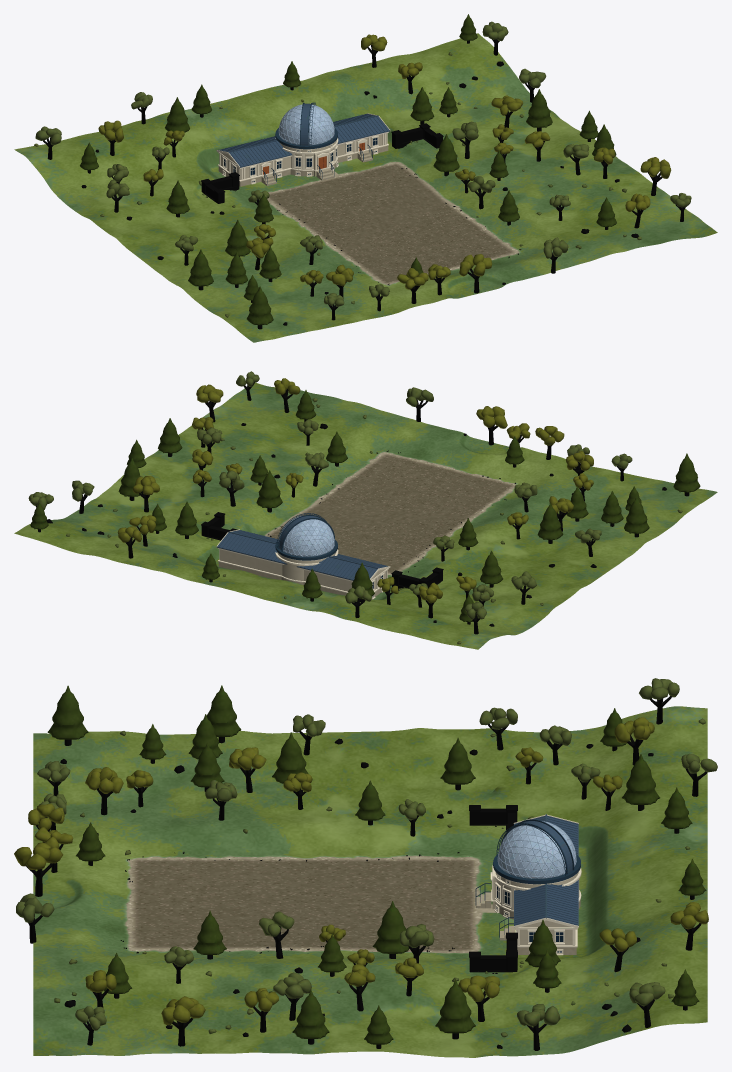
The model's file is surroundings_13x23.glb.
The picture shows the model from 3 angles, top to bottom: view 1: azimuth 30°, elevation 25°; view 2: azimuth 150°, elevation 25°; view 3: azimuth 270°, elevation 25°; orthographic projection. The views are drawn at different scales.
Visible parts, largest first — view 1: ground, props, lab; view 2: ground, props, lab; view 3: ground, props, lab.
Boxes of the visible parts, x1,y1,x2,y2 form: ground: [14, 33, 717, 342]; props: [34, 14, 691, 329]; lab: [216, 102, 390, 186]; ground: [14, 382, 717, 649]; props: [28, 371, 700, 644]; lab: [216, 513, 390, 599]; ground: [33, 706, 707, 1057]; props: [14, 678, 717, 1050]; lab: [475, 814, 581, 955].
Bounding box in the file's own units: 58.06 × 7.62 × 53.25.
4 materials, 4 textured.
